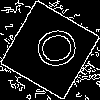O: (25, 25, 80, 74)
